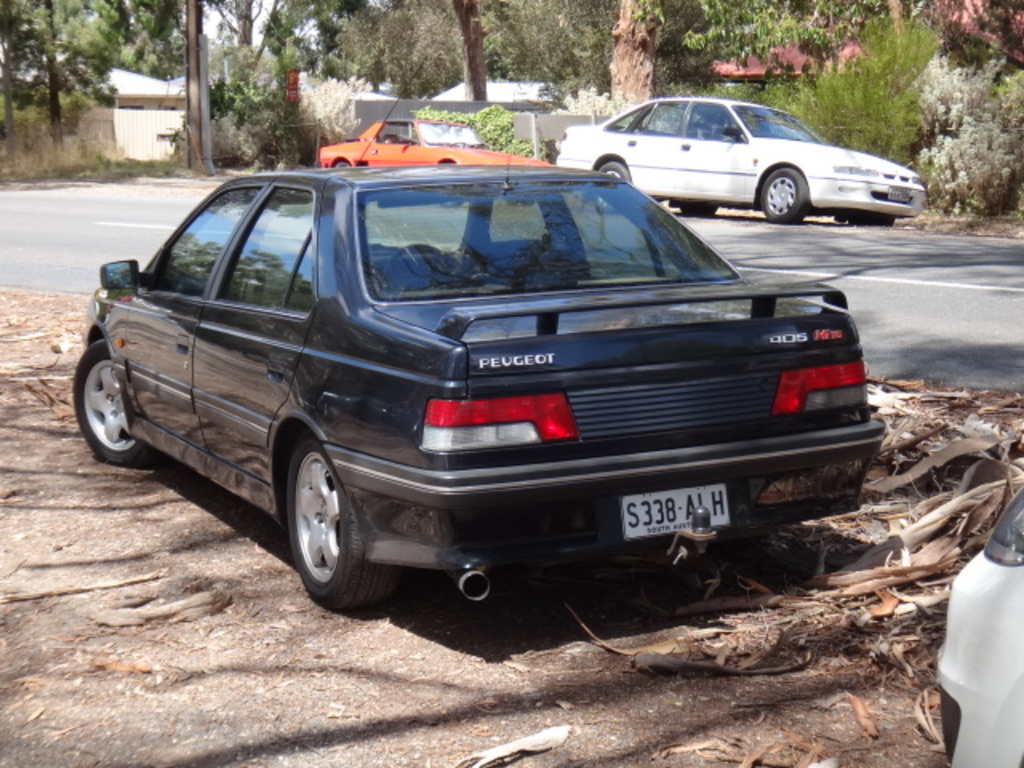Car: (73, 150, 894, 606), (556, 99, 928, 227), (932, 492, 1022, 766), (321, 118, 556, 201)
